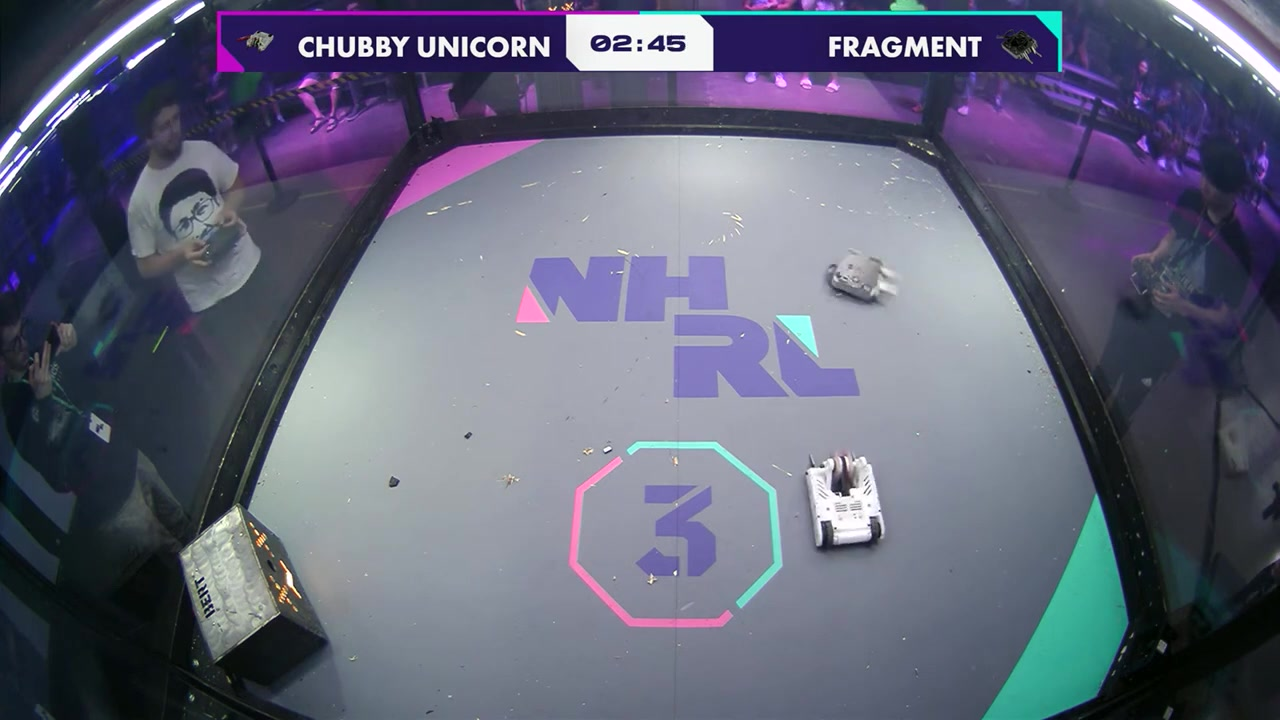combatbot: (803, 449, 888, 552), (824, 251, 883, 303)
housebot: (175, 506, 329, 685)
